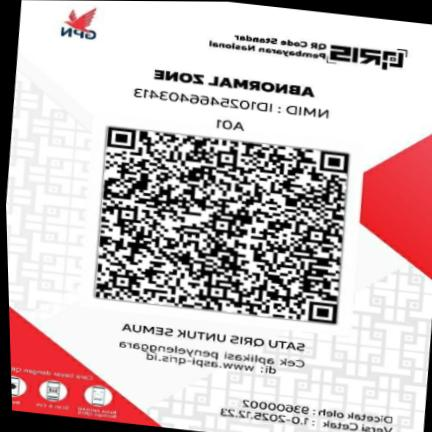Barcode_Palsu: (87, 121, 357, 331)
